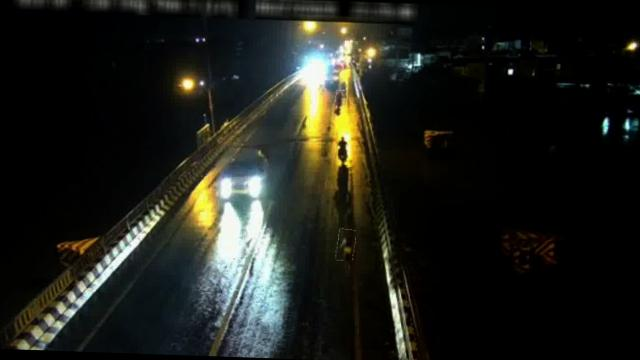Bike: (336, 229, 356, 262), (336, 137, 350, 165), (334, 90, 345, 113)
